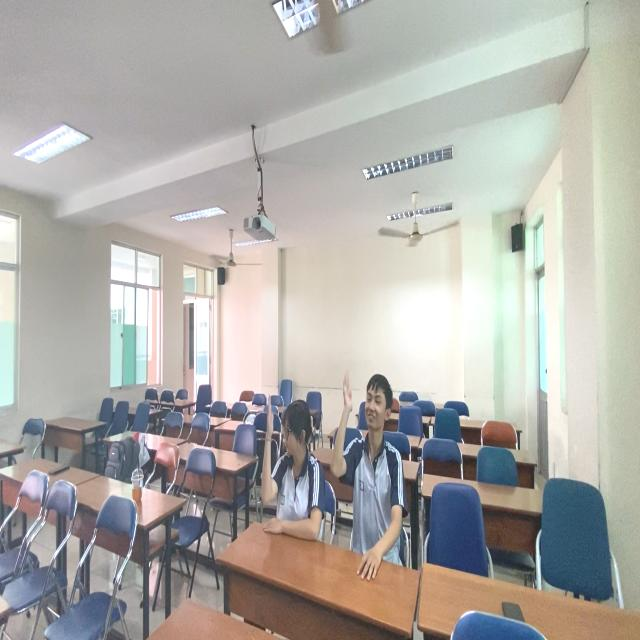raise_hand: (330, 360, 408, 576), (260, 389, 325, 543)
